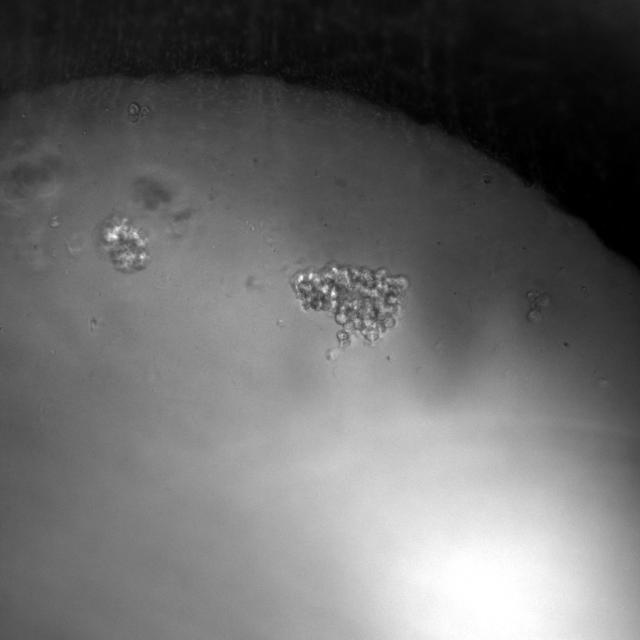organoid: (291, 263, 408, 348), (98, 214, 150, 272), (527, 289, 550, 322), (128, 101, 150, 123)
